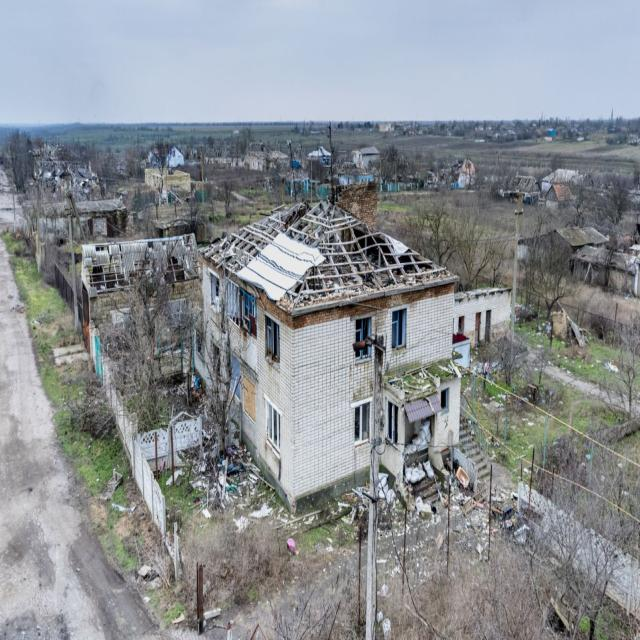broken_window: (265, 398, 281, 455), (354, 316, 372, 362), (264, 314, 280, 363), (353, 401, 370, 444), (391, 307, 406, 350), (386, 399, 398, 445)
building: (196, 196, 464, 516)
damaged_roof: (200, 196, 458, 317)
